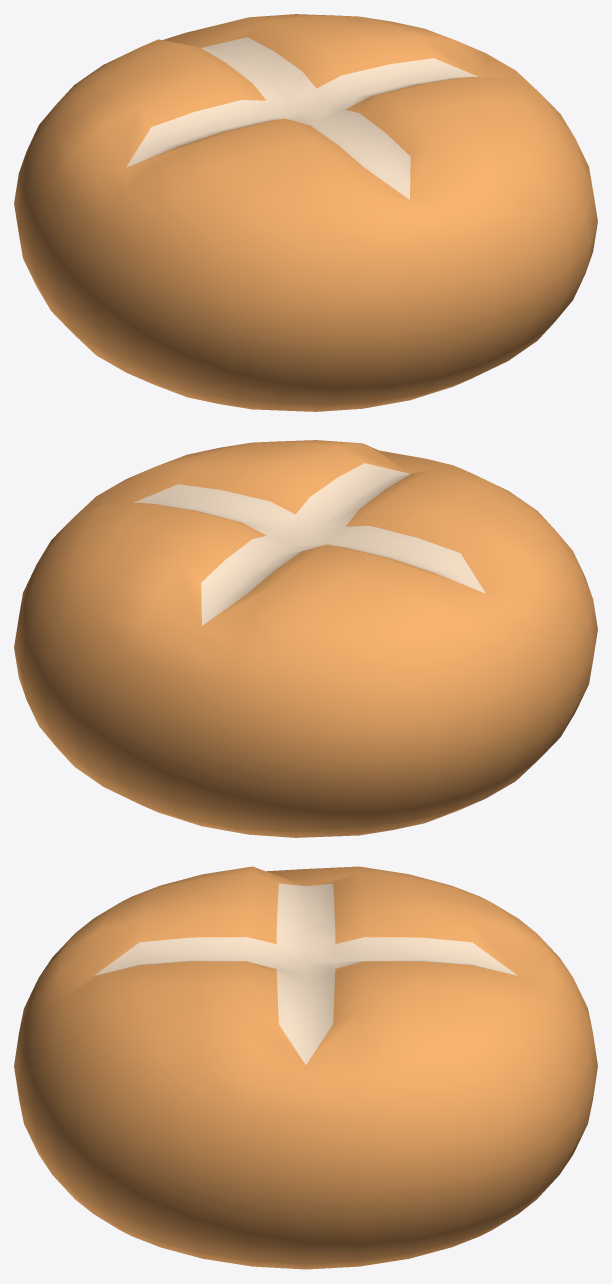
Rendered from znajdzka.fbx.
3 renders of one model, top to bottom at view 1: azimuth 30°, elevation 25°; view 2: azimuth 150°, elevation 25°; view 3: azimuth 270°, elevation 25°, orthographic.
Visible parts, largest first — view 1: Cube.046; view 2: Cube.046; view 3: Cube.046.
Part boxes in pixels (x1,y1,x2,y2): Cube.046: [14, 14, 597, 411]; Cube.046: [14, 440, 597, 837]; Cube.046: [14, 866, 597, 1269].
Bounding box in the file's own units: 83.38 × 40.93 × 83.38.
